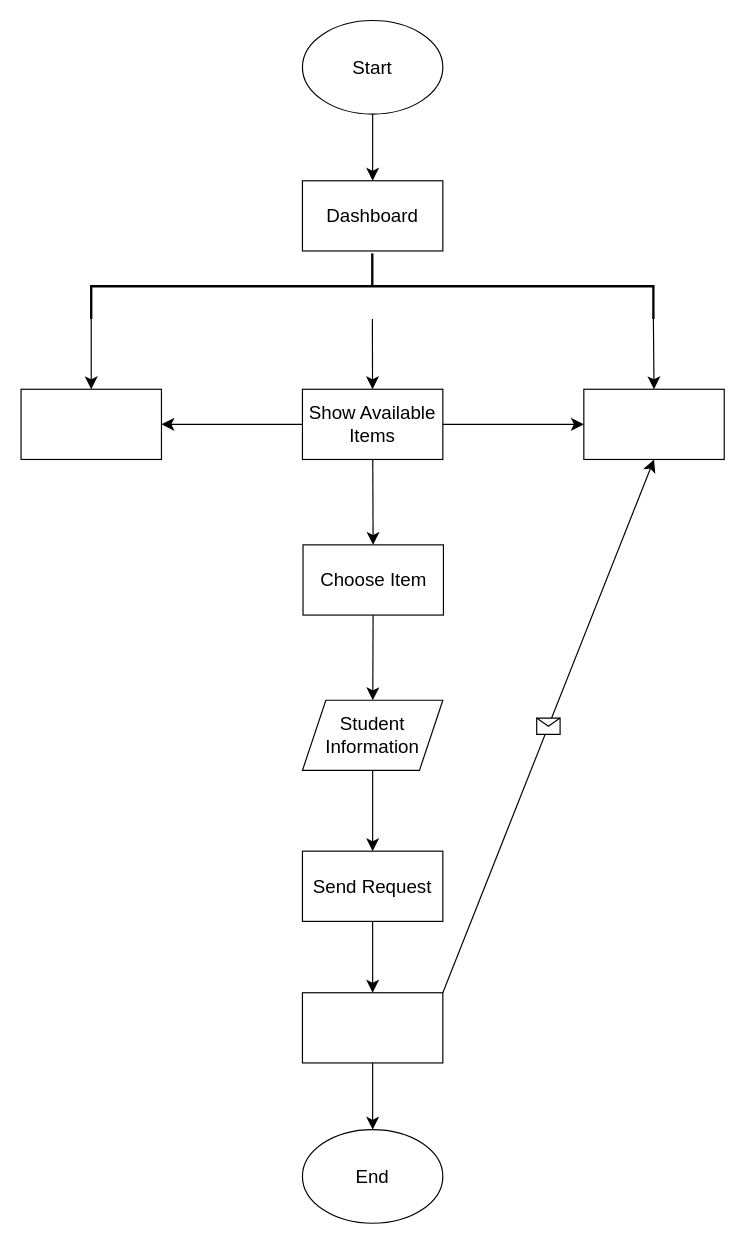
Image size: 744x1244. Some labels were removed from this diagram. The centre of each missing label's shape, as x and y in pixels:
"Item added at Pending" goes at [372,1027].
"Show Borrowed Items" goes at [90,423].
"Show Pending Items" goes at [653,423].
